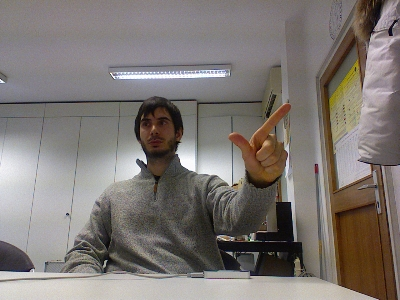枪: (227, 102, 293, 184)
